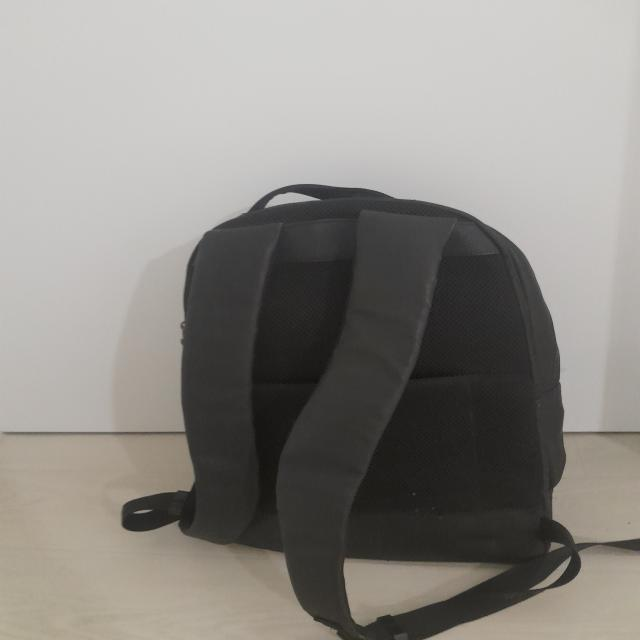backpack: (120, 182, 640, 640)
